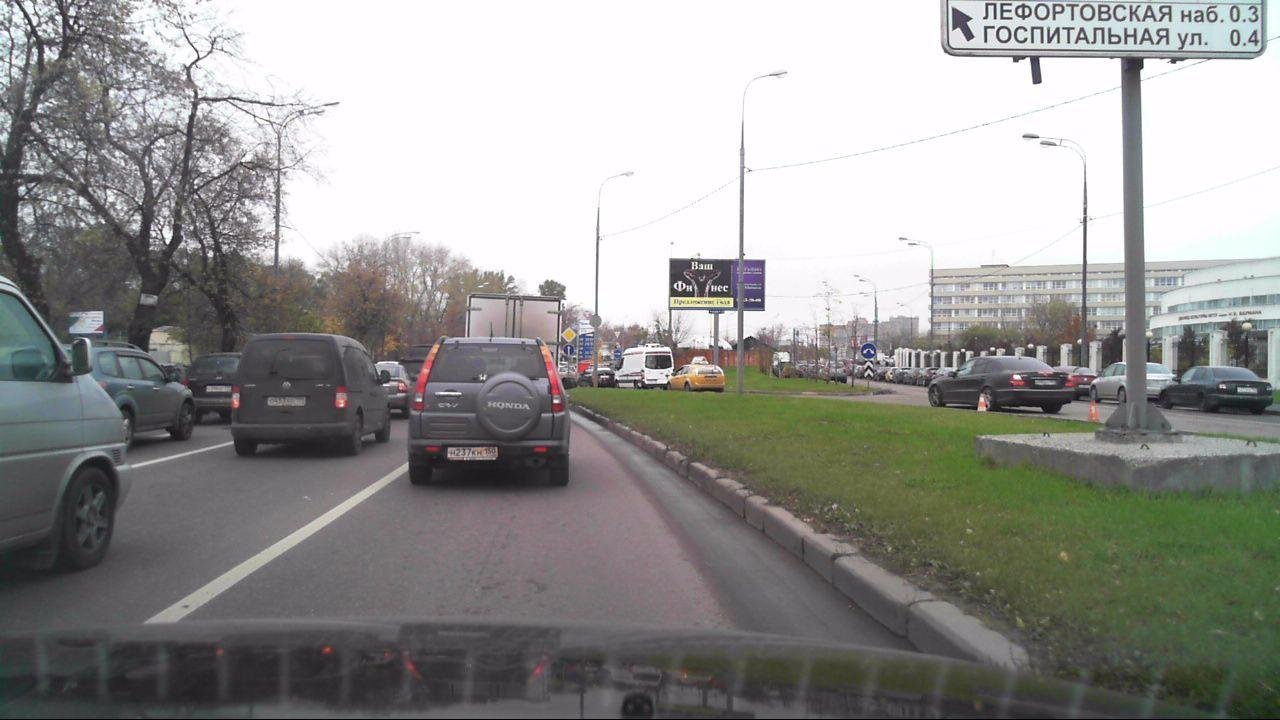road_sign: (561, 326, 577, 343), (860, 342, 875, 359), (563, 344, 575, 356)
